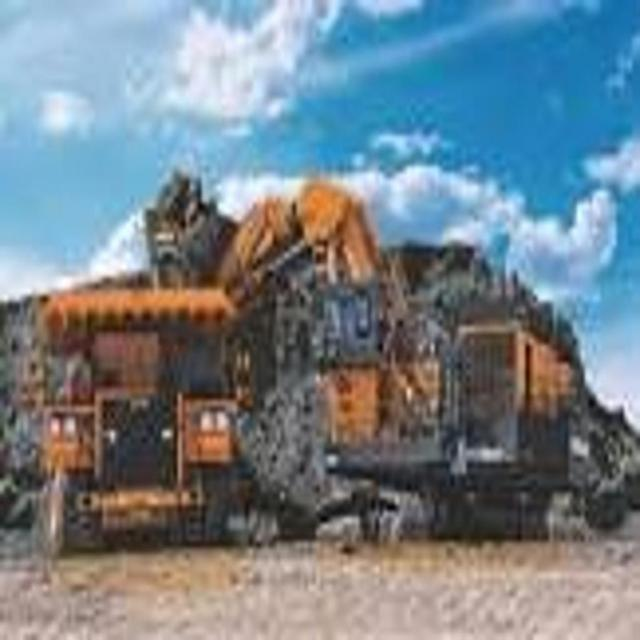dump_truck: (29, 240, 262, 560)
